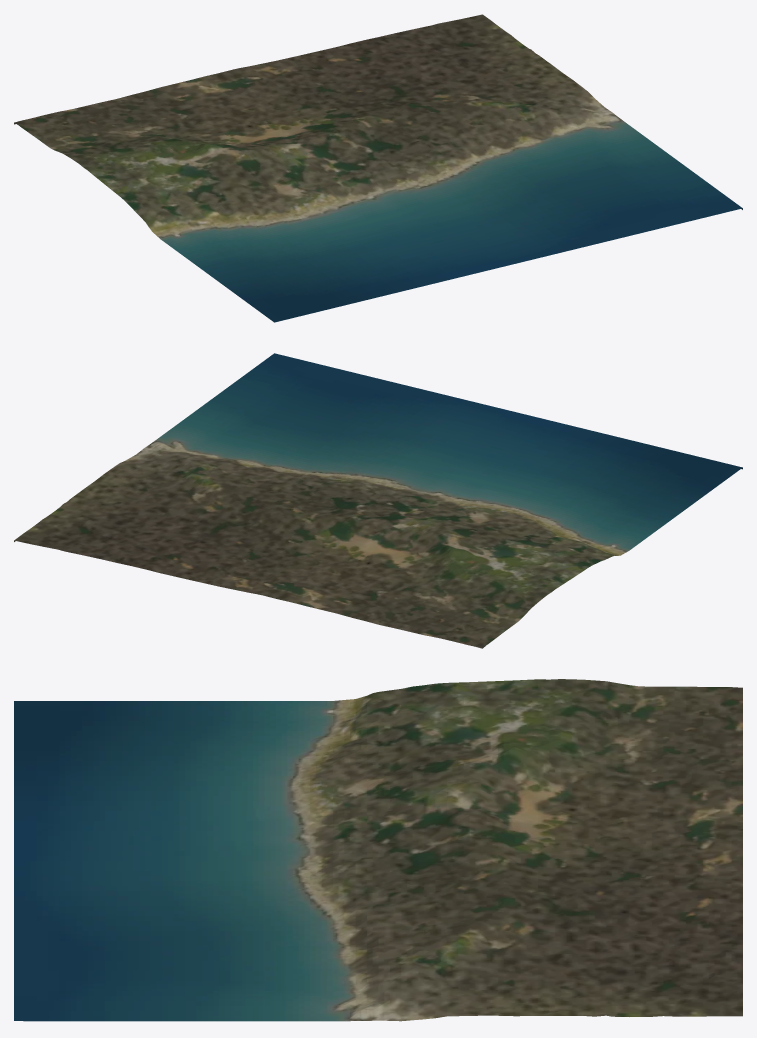
The picture shows the model from 3 angles, top to bottom: view 1: azimuth 30°, elevation 25°; view 2: azimuth 150°, elevation 25°; view 3: azimuth 270°, elevation 25°; orthographic projection. The views are drawn at different scales.
Bounding box in the file's own units: 250 × 11.49 × 241.
Materials: 1 (1 with a texture image).
